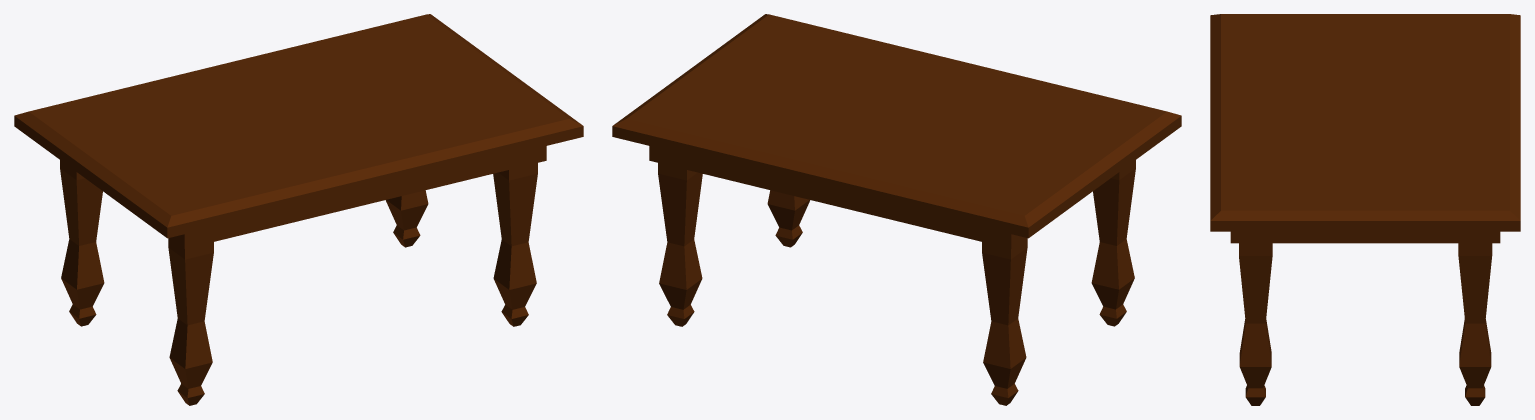
Rendered from desk.fbx.
3 views of the same model, side by side, from view 1: azimuth 30°, elevation 25°; view 2: azimuth 150°, elevation 25°; view 3: azimuth 270°, elevation 25° (orthographic).
Parts seen in each view (by area): view 1: pCube10; view 2: pCube10; view 3: pCube10.
Boxes of the visible parts, x1,y1,x2,y2 form: pCube10: (14,14,583,405); pCube10: (612,14,1181,405); pCube10: (1210,14,1520,405).
Bounding box in the file's own units: 8.63 × 4.14 × 5.5.
